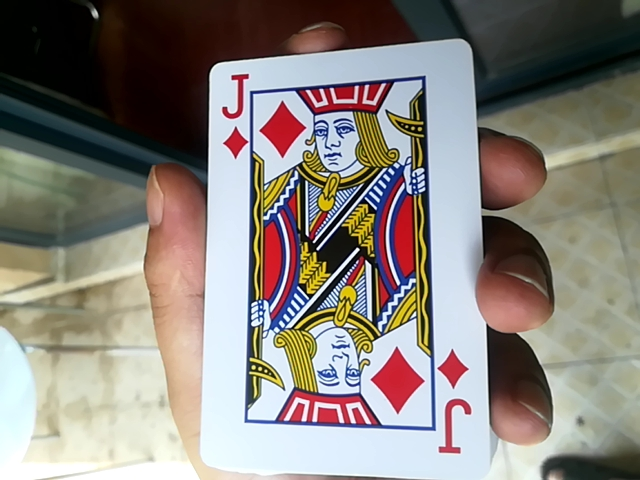fk j: (197, 42, 471, 475)
